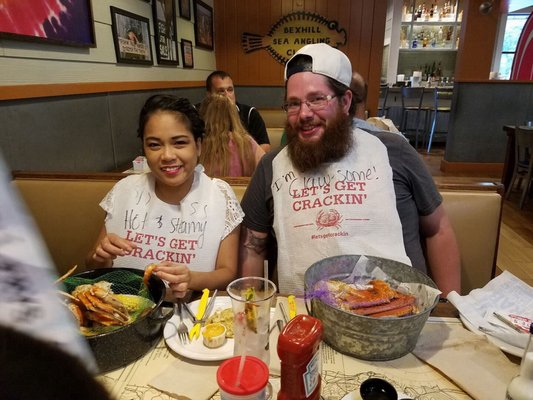sushi: (301, 278, 442, 362)
